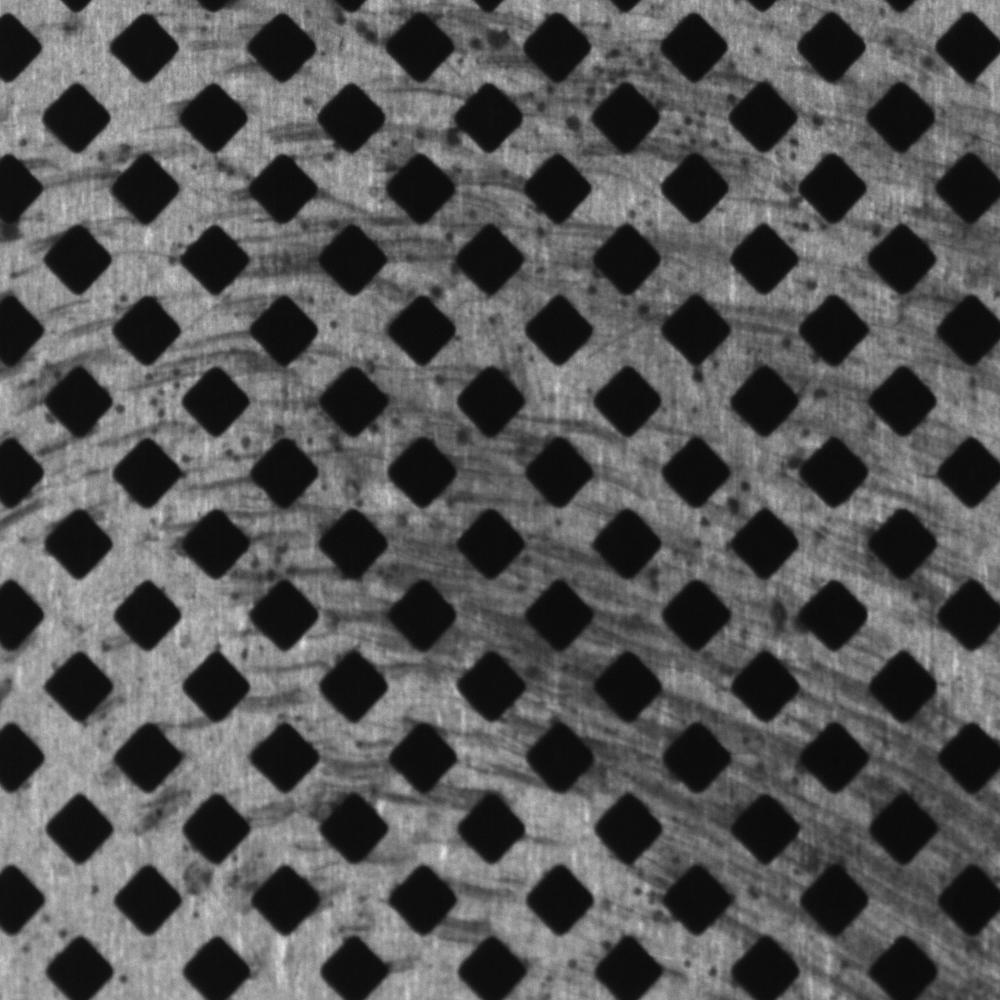Discolor: (839, 684, 995, 981), (231, 200, 462, 302), (642, 813, 811, 914), (360, 352, 495, 473), (921, 93, 997, 305), (568, 45, 754, 128), (436, 611, 613, 685), (703, 583, 837, 678), (560, 694, 679, 798), (484, 502, 622, 591), (125, 760, 211, 902), (711, 696, 815, 806), (761, 498, 896, 582), (230, 635, 333, 727), (365, 504, 470, 594), (508, 212, 613, 299), (804, 77, 904, 168), (503, 393, 634, 460), (297, 743, 418, 812), (709, 290, 819, 361), (435, 5, 523, 83)
Etching: (18, 120, 139, 238), (233, 517, 358, 621), (11, 293, 117, 410), (1, 437, 121, 537), (131, 412, 265, 501), (408, 127, 538, 194), (443, 708, 546, 788), (139, 333, 293, 386), (708, 142, 799, 229), (227, 779, 289, 899), (433, 867, 521, 945), (781, 365, 833, 477), (252, 115, 328, 159)
